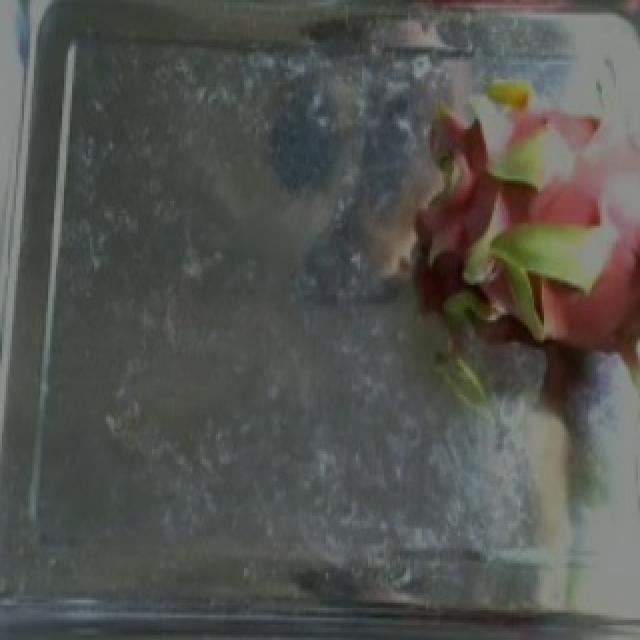fruit: (354, 22, 640, 449)
